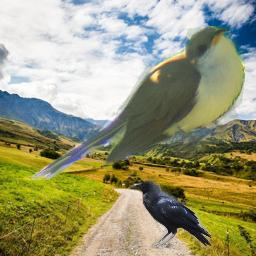Crow: (129, 179, 211, 249)
Cuckoo: (28, 26, 245, 180)
